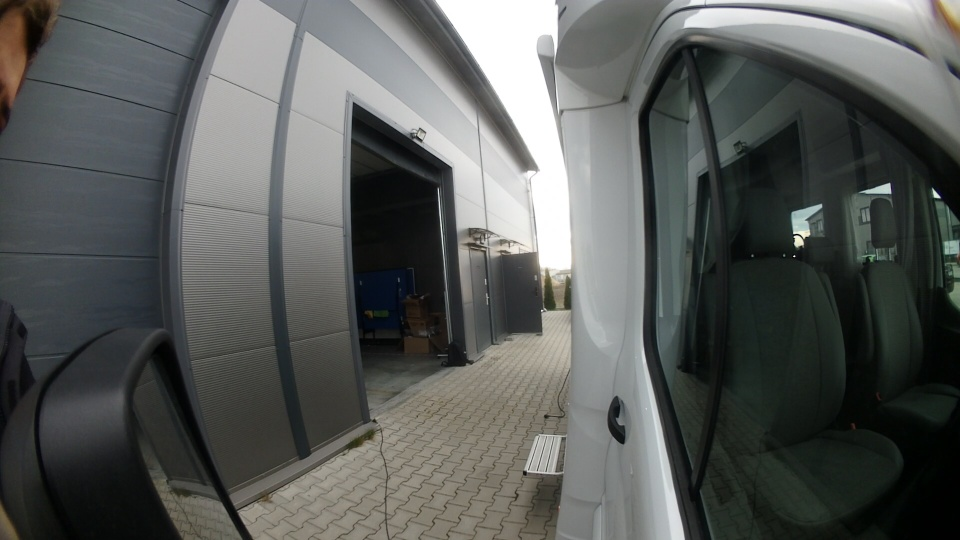step_front: (517, 421, 574, 483)
